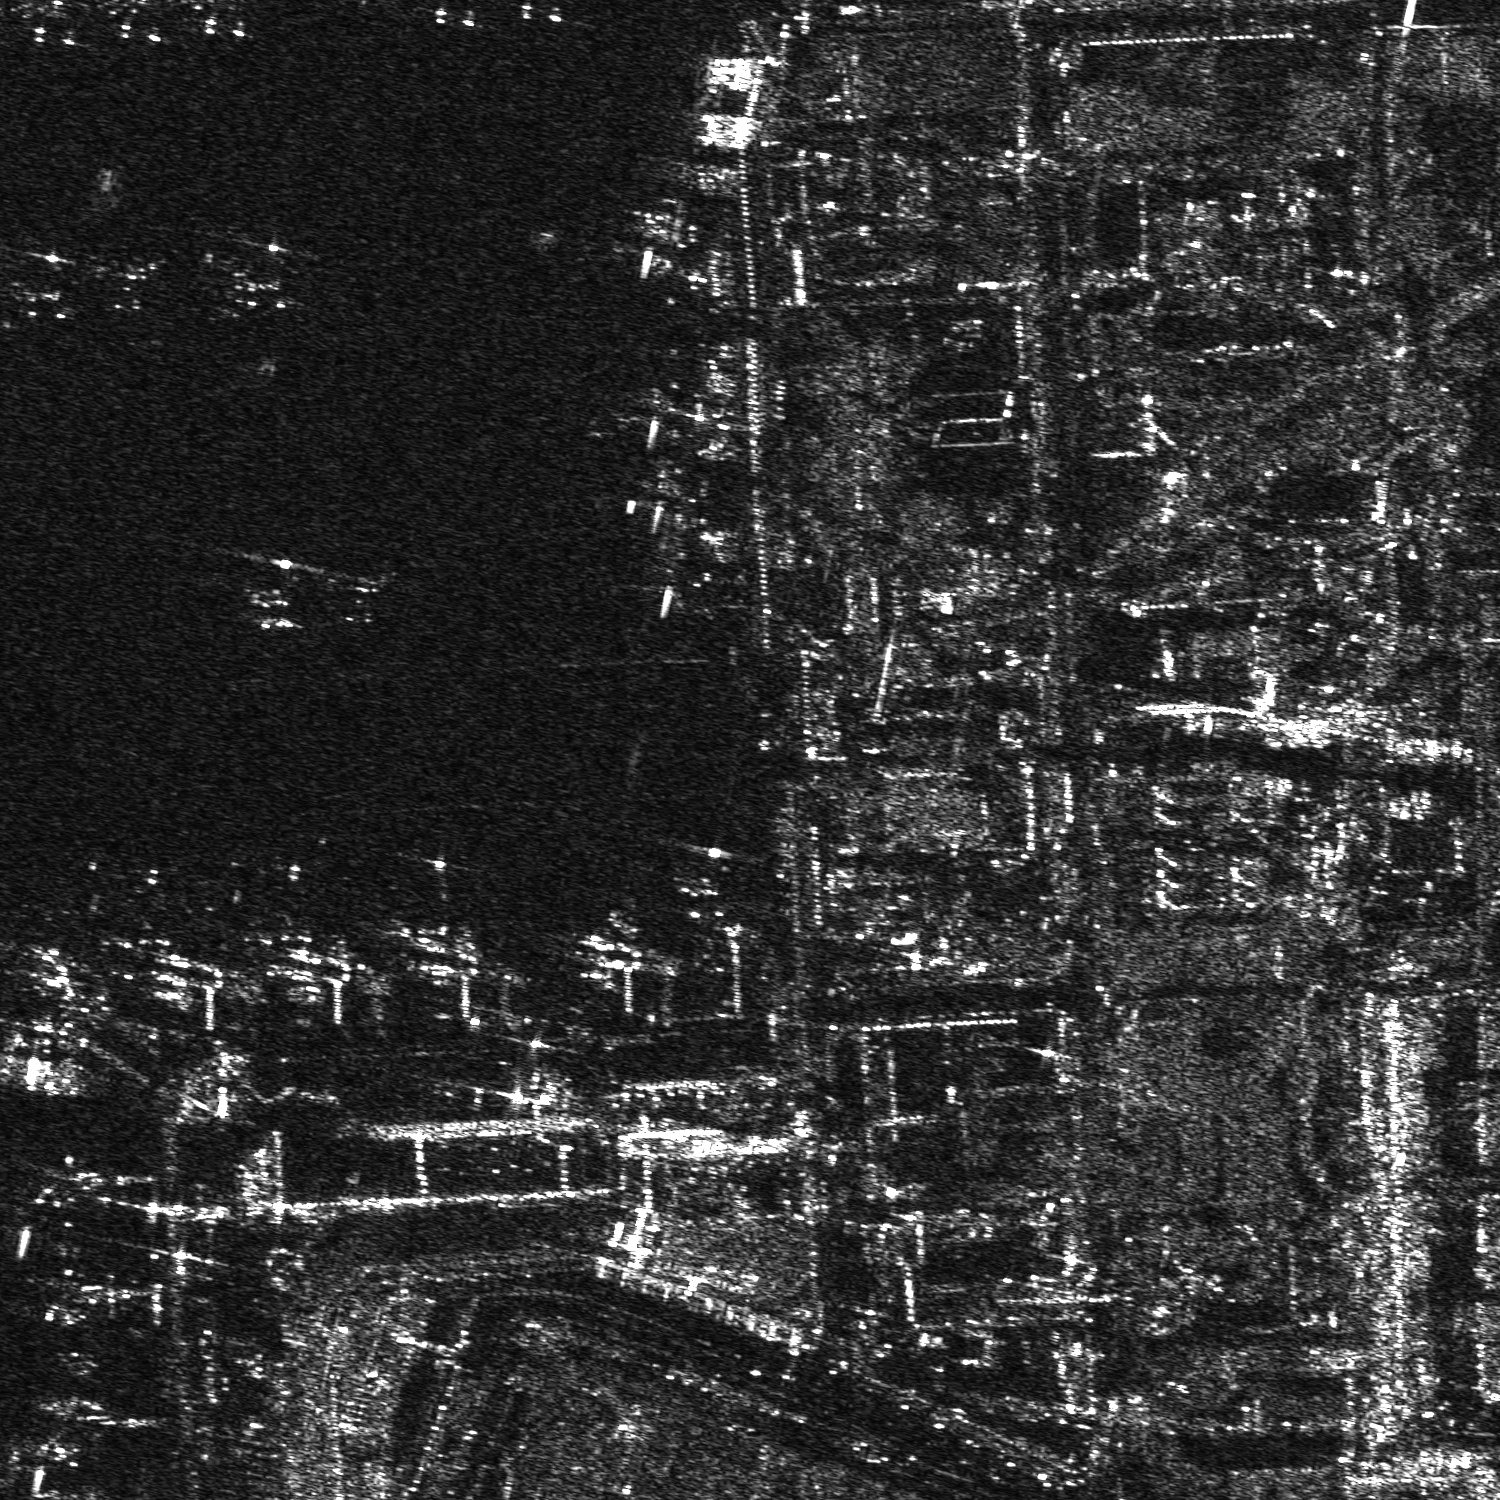A220: (665, 839, 755, 935), (328, 565, 393, 626)
other: (216, 545, 326, 637), (205, 229, 304, 315), (93, 245, 179, 319)
